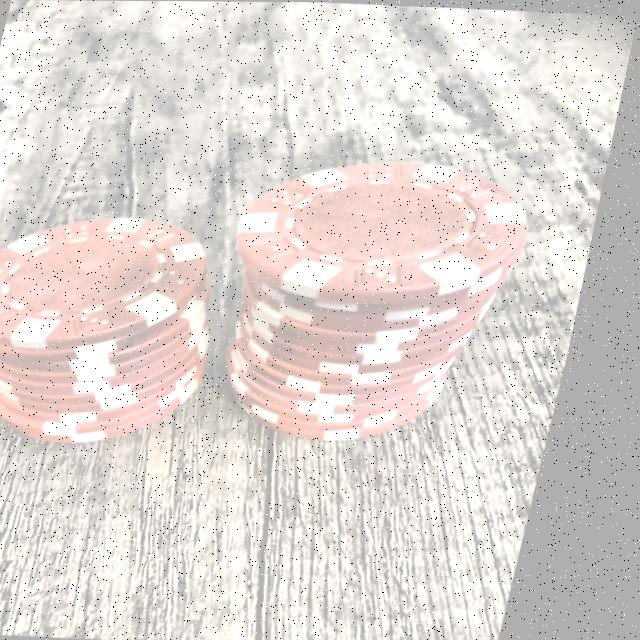Chip: (208, 153, 555, 447), (0, 210, 253, 448)
